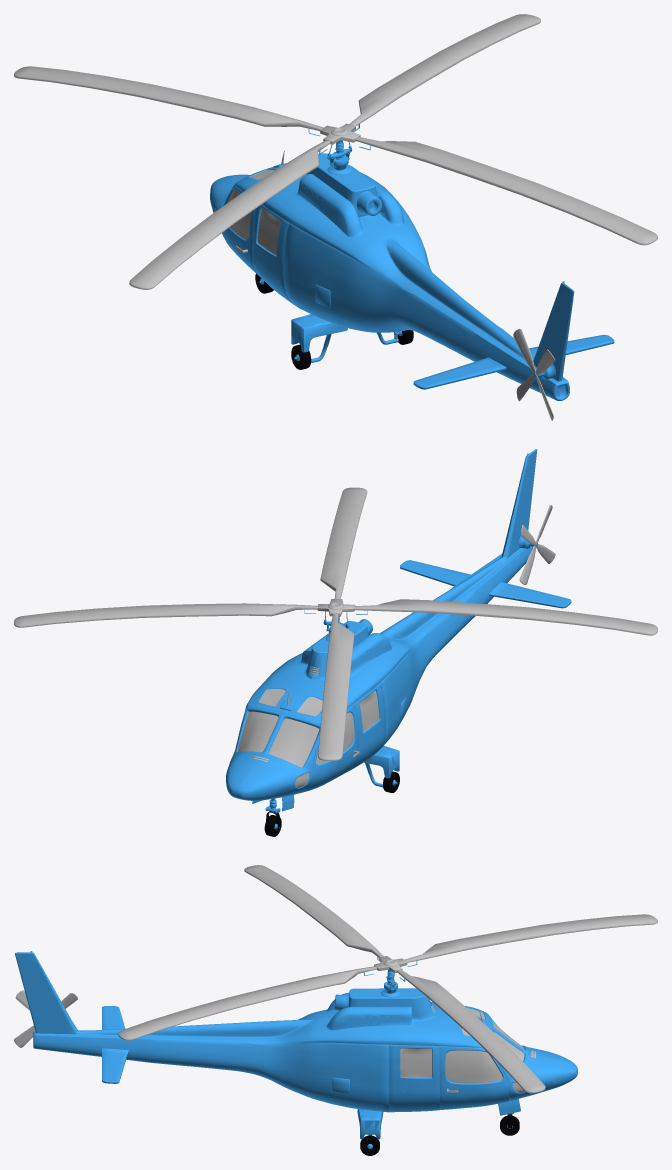
The model's file is roflcopter.glb.
3 views of the same model, one above another, from view 1: azimuth 30°, elevation 25°; view 2: azimuth 150°, elevation 25°; view 3: azimuth 270°, elevation 25° (orthographic). The views are drawn at different scales.
Parts seen in each view (by area): view 1: helicopter.1; view 2: helicopter.1; view 3: helicopter.1.
Boxes of the visible parts, x1=… form: helicopter.1: x1=14, y1=14, x2=657, y2=420; helicopter.1: x1=14, y1=449, x2=657, y2=836; helicopter.1: x1=14, y1=865, x2=657, y2=1155.
Size of the model in its own units: 2.83 by 1.07 by 3.39.
Materials: 1 (1 with a texture image).
